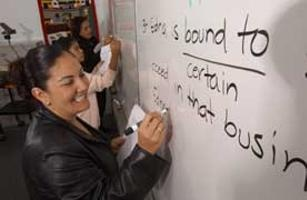person without safety: (18, 44, 91, 164), (67, 13, 94, 40), (60, 35, 86, 60)
